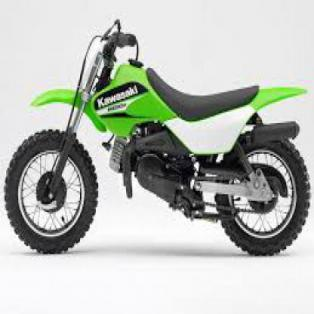Motocicleta: (5, 9, 312, 263)
